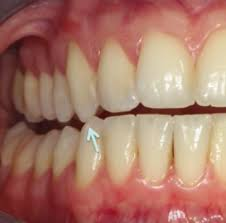normal: (97, 39, 140, 113), (68, 40, 99, 122), (78, 118, 102, 190), (54, 125, 78, 176), (14, 133, 40, 177), (33, 130, 59, 174), (55, 64, 74, 121), (25, 70, 41, 123), (41, 72, 55, 119), (13, 70, 25, 113)
yellow: (140, 32, 195, 109), (173, 115, 209, 187), (195, 25, 226, 108), (103, 115, 138, 186), (139, 115, 172, 182), (211, 113, 226, 177)
